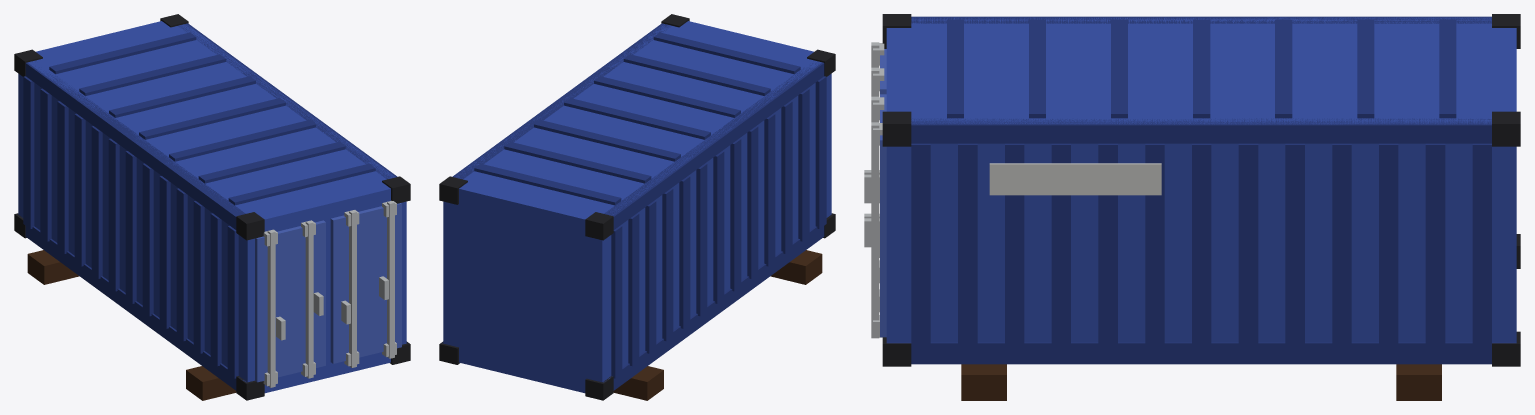
The model's file is conteneur.glb.
3 renders of one model, left to right at view 1: azimuth 30°, elevation 25°; view 2: azimuth 150°, elevation 25°; view 3: azimuth 270°, elevation 25°, orthographic. The views are drawn at different scales.
Visible parts, largest first — view 1: conteneur; view 2: conteneur; view 3: conteneur.
Part boxes in pixels (box(x1,y1,x2,y2)): conteneur: box(14, 14, 410, 400); conteneur: box(439, 14, 835, 400); conteneur: box(864, 14, 1520, 400).
Size of the model in its own units: 0.54 by 0.518 by 1.15.
